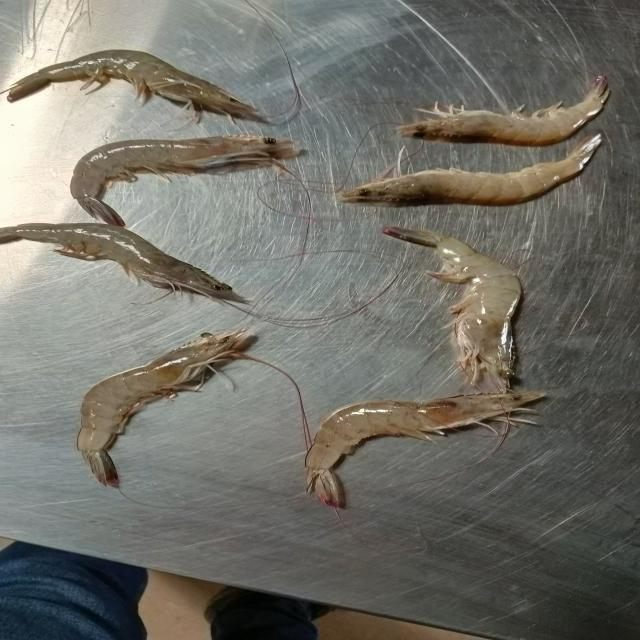shrimp: (305, 391, 542, 508), (77, 330, 250, 486), (383, 228, 520, 385), (0, 224, 246, 304), (71, 136, 299, 220), (339, 136, 600, 205), (11, 50, 255, 115), (401, 78, 607, 145), (153, 70, 157, 74)
